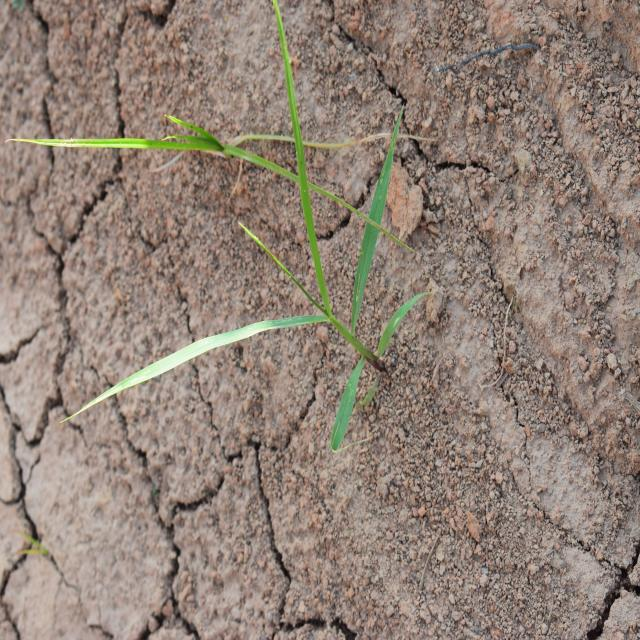green_foxtail: (155, 162, 415, 406)
